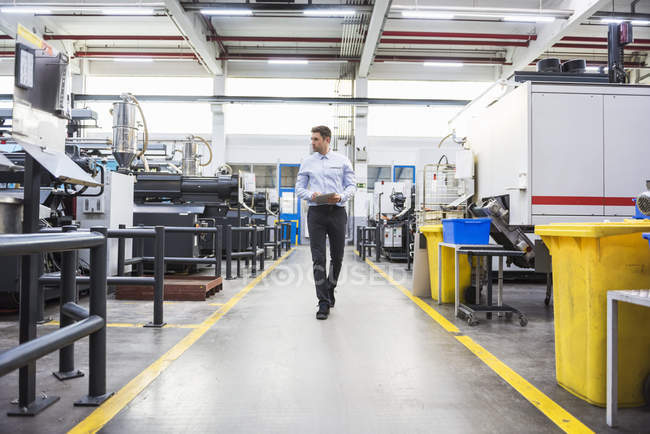person: (294, 127, 357, 320)
